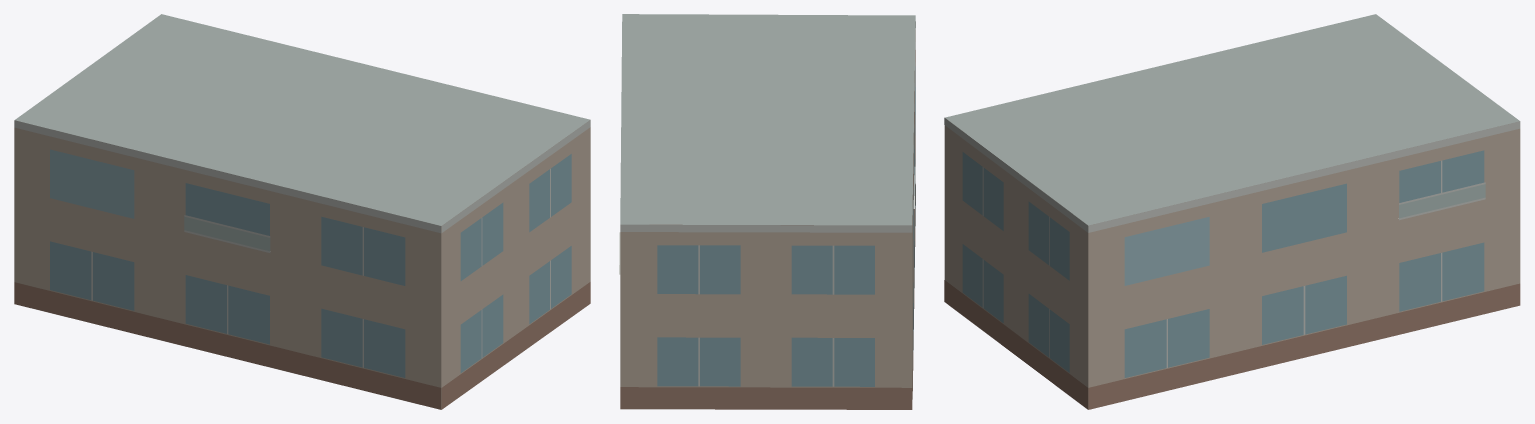
File: survey-upis-32912642.glb
3 views of the same model, side by side, from view 1: azimuth 30°, elevation 25°; view 2: azimuth 150°, elevation 25°; view 3: azimuth 270°, elevation 25° (orthographic).
Visible parts, largest first — view 1: survey-upis-32912642.tmp; view 2: survey-upis-32912642.tmp; view 3: survey-upis-32912642.tmp.
Boxes of the visible parts, box(x1,y1,x2,y2) form: survey-upis-32912642.tmp: box(14, 14, 590, 409); survey-upis-32912642.tmp: box(619, 14, 915, 409); survey-upis-32912642.tmp: box(944, 14, 1520, 409).
Bounding box in the file's own units: 15.03 × 6.1 × 17.28.
